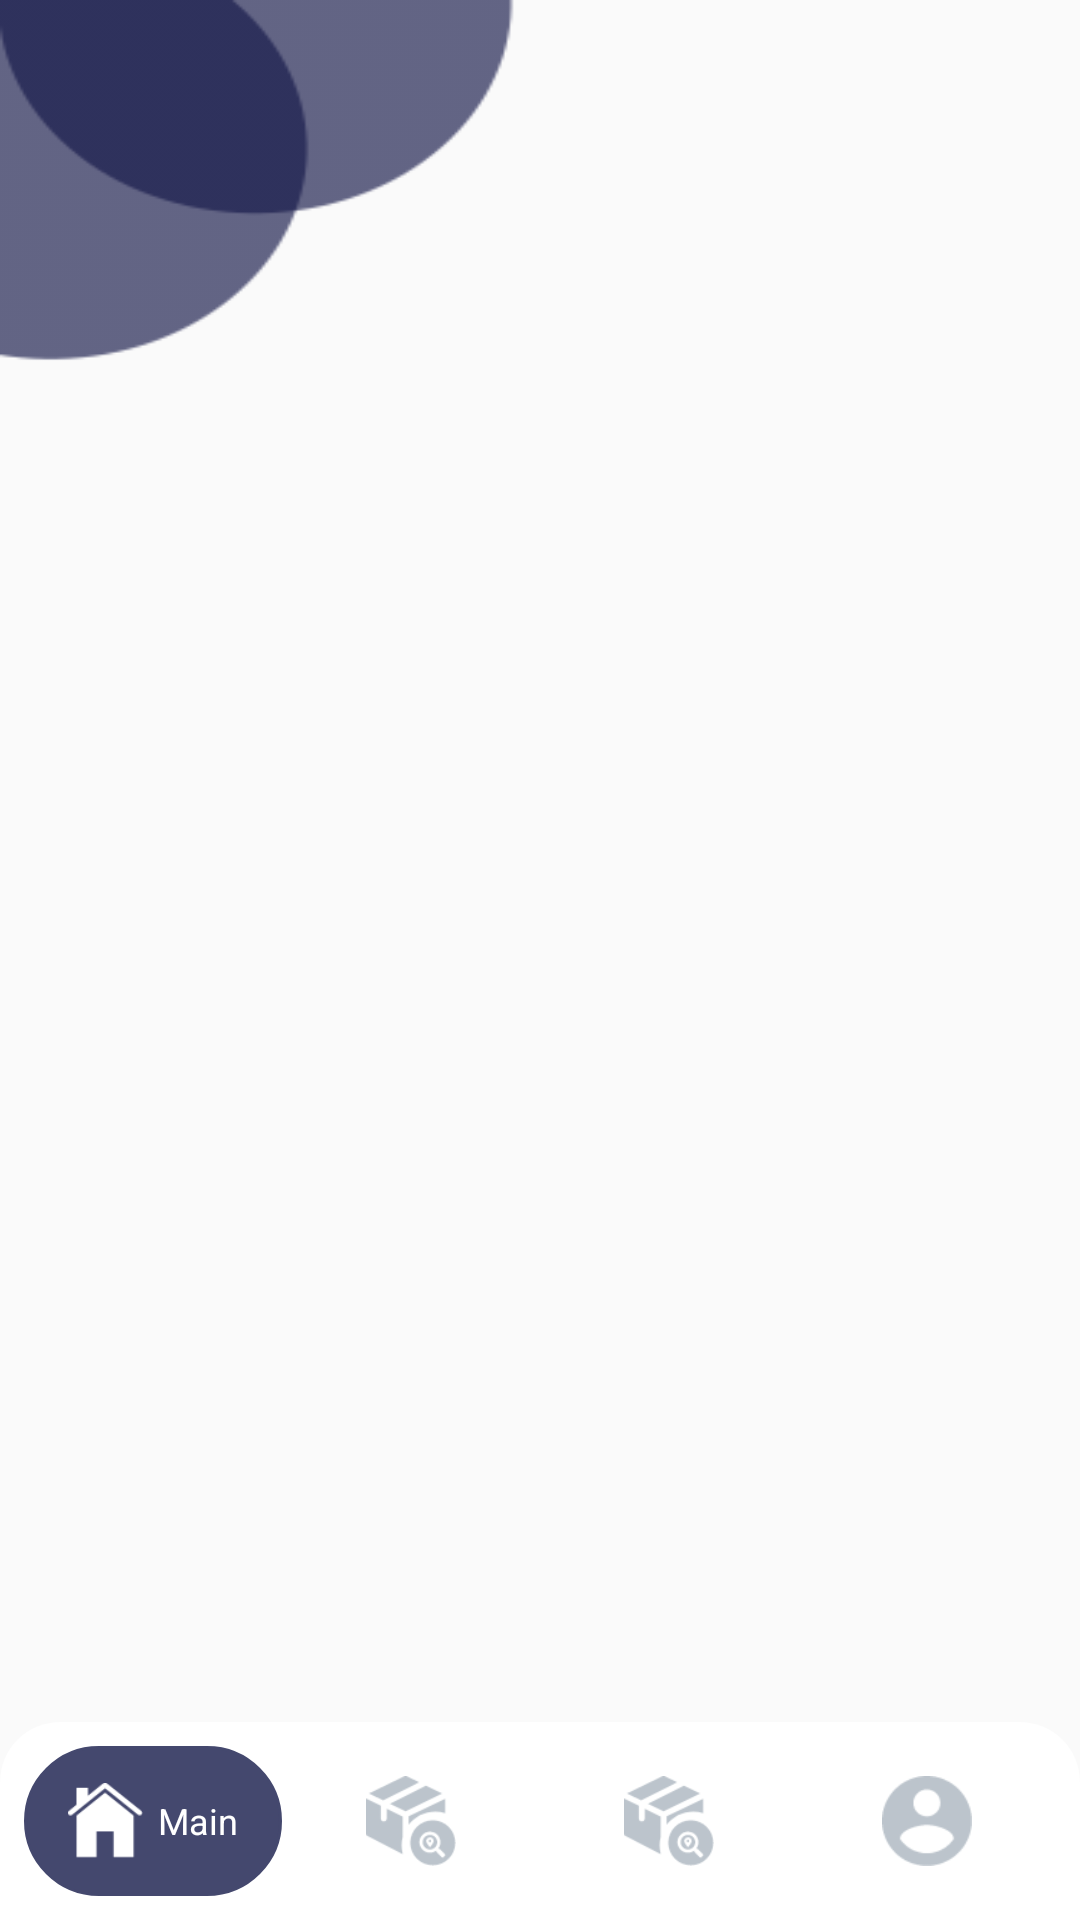

Where icons sit on this 1080 × 1920 app screen, as {"x1": x1, "y1": y1, "x2": x2, "y2": y2}:
iconionicioshome: {"x1": 68, "y1": 1783, "x2": 143, "y2": 1858}
